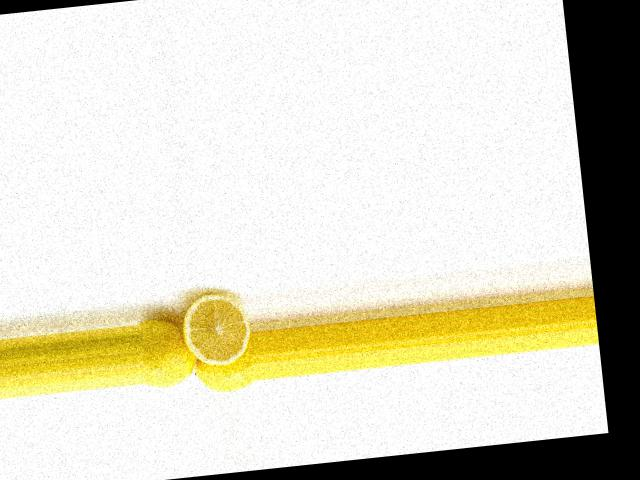lemon: (182, 332, 255, 393)
